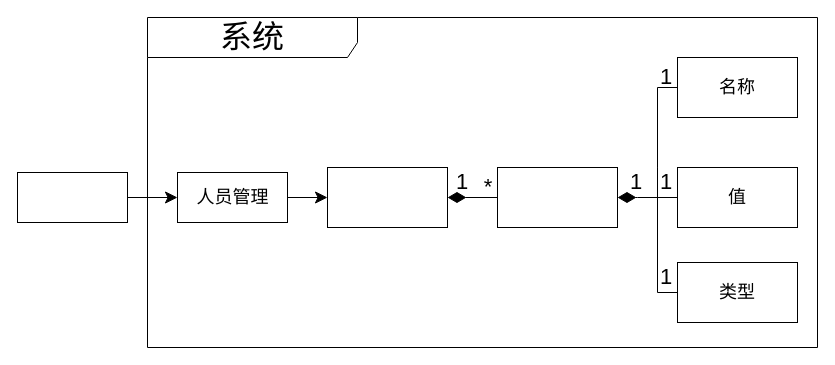
Some shapes in this 835 by 365 pixel diagram are drawn without their labels. Here are the shapes that lost their labels. From the top down, the box of each, then its label:
(16, 172, 128, 222): Client
(326, 166, 448, 228): 人员
(496, 166, 618, 228): 人员数据项
